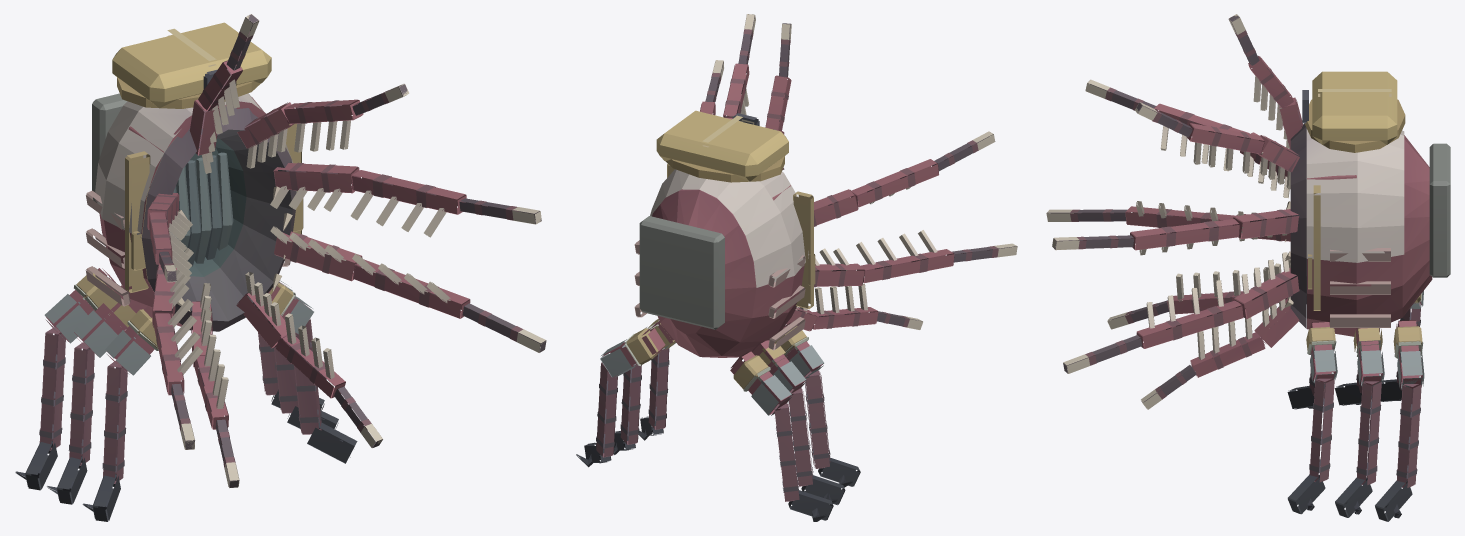
The model's file is AdaptedVisceraMiner.glb.
The picture shows the model from 3 angles, left to right: view 1: azimuth 30°, elevation 25°; view 2: azimuth 150°, elevation 25°; view 3: azimuth 270°, elevation 25°; orthographic projection. The views are drawn at different scales.
Parts seen in each view (by area): view 1: Body, LegR, ArmR, ArmL, LegL; view 2: Body, LegR, LegL, ArmR, ArmL; view 3: Body, LegL, ArmL, LegR, ArmR.
Part boxes in pixels (x1=…): Body: x1=47, y1=14, x2=546, y2=504; LegR: x1=15, y1=268, x2=115, y2=490; ArmR: x1=82, y1=306, x2=158, y2=521; ArmL: x1=267, y1=283, x2=357, y2=463; LegL: x1=258, y1=332, x2=324, y2=410; Body: x1=613, y1=14, x2=1017, y2=505; LegR: x1=730, y1=351, x2=833, y2=521; LegL: x1=576, y1=328, x2=665, y2=467; ArmR: x1=774, y1=322, x2=860, y2=487; ArmL: x1=638, y1=342, x2=676, y2=440; Body: x1=1046, y1=14, x2=1450, y2=517; LegL: x1=1375, y1=320, x2=1424, y2=521; ArmL: x1=1287, y1=321, x2=1337, y2=514; LegR: x1=1380, y1=291, x2=1423, y2=401; ArmR: x1=1287, y1=370, x2=1325, y2=409.
Size of the model in its own units: 8.02 by 10.39 by 8.63.
